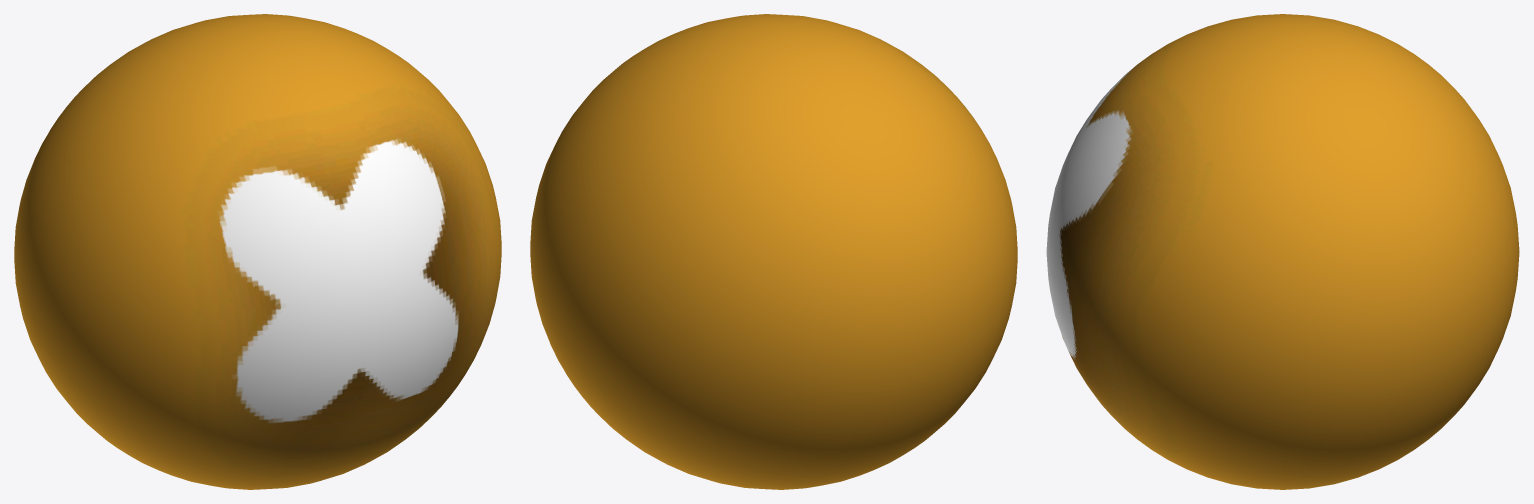
The model's file is cerrarII.fbx.
3 views of the same model, side by side, from view 1: azimuth 30°, elevation 25°; view 2: azimuth 150°, elevation 25°; view 3: azimuth 270°, elevation 25° (orthographic).
Parts seen in each view (by area): view 1: root; view 2: root; view 3: root.
Part boxes in pixels (left/top/right/bottom): root: left=14, top=14, right=501, bottom=489; root: left=530, top=14, right=1017, bottom=489; root: left=1046, top=14, right=1519, bottom=489.
Size of the model in its own units: 0.3889 by 0.3757 by 0.3757.
1 material, 1 textured.
